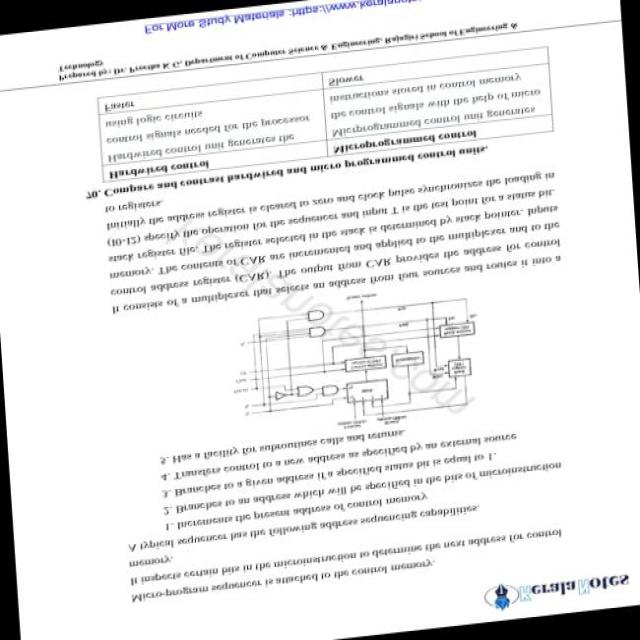Figure Detection - v3 Dataset Version2: (217, 276, 493, 447)
